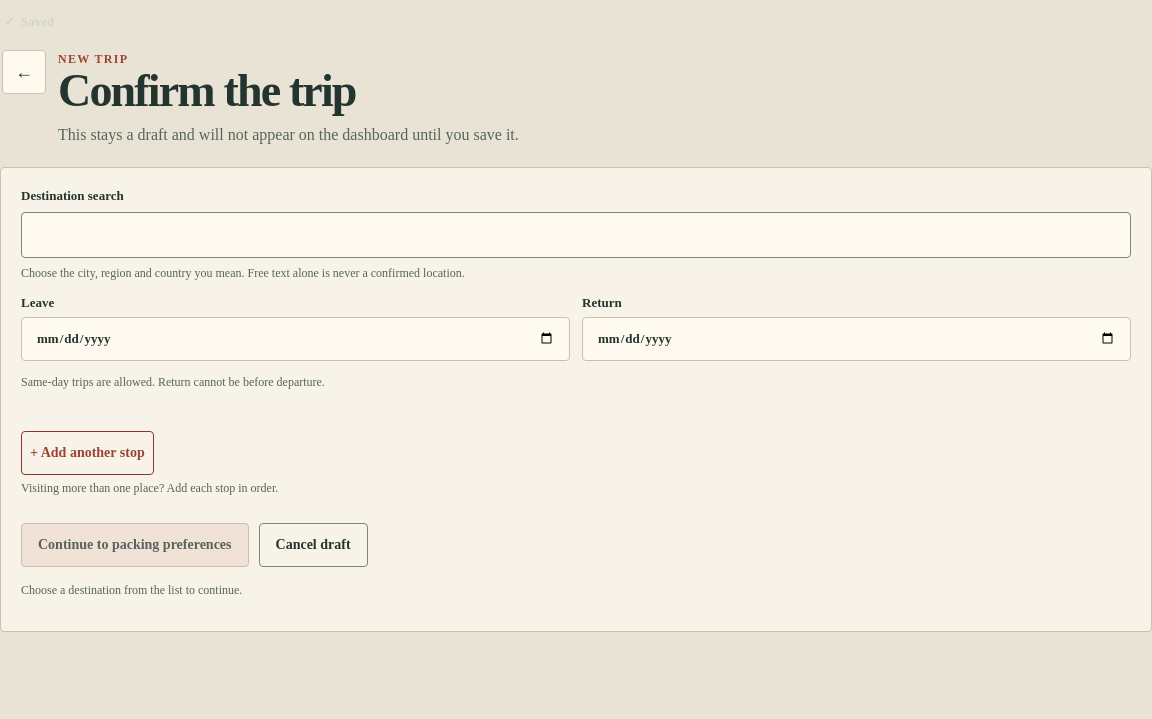
Scenario: a route of several stops › keeps what was typed in the first search box when the route grows
Type "lis" into the dropdown labelled "Destination search" at point(576, 235), box [21,212,1131,258]
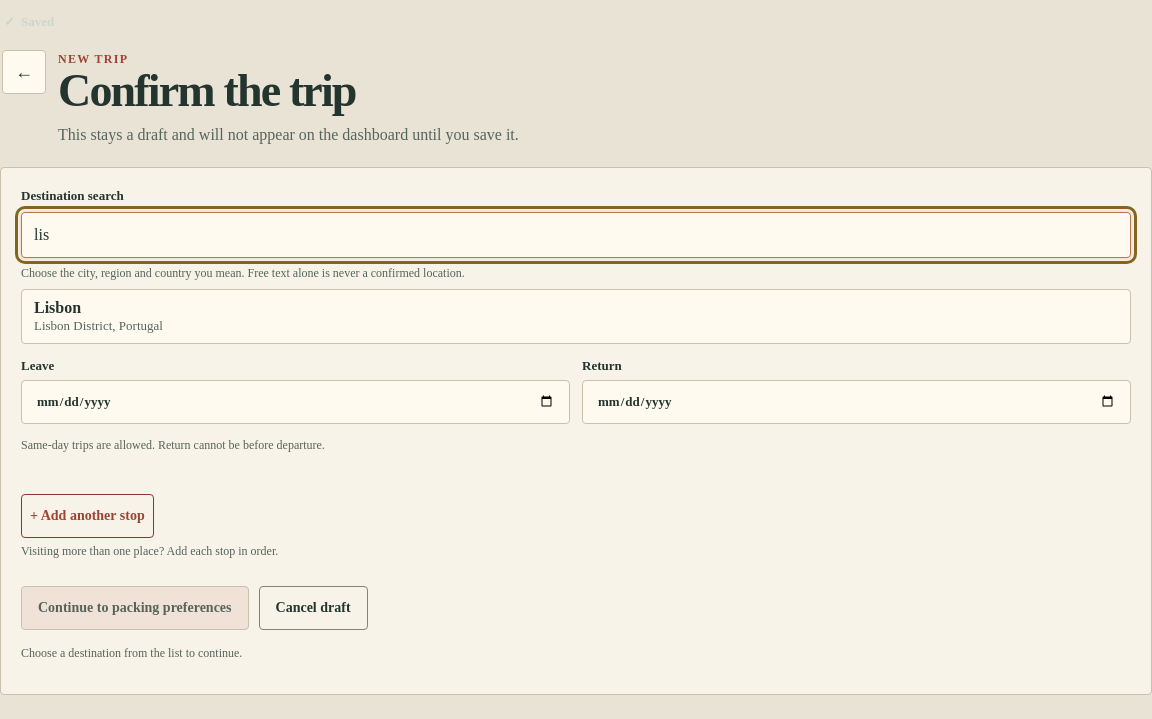
Click the button "+ Add another stop" at point(87, 516), box [21,494,154,538]
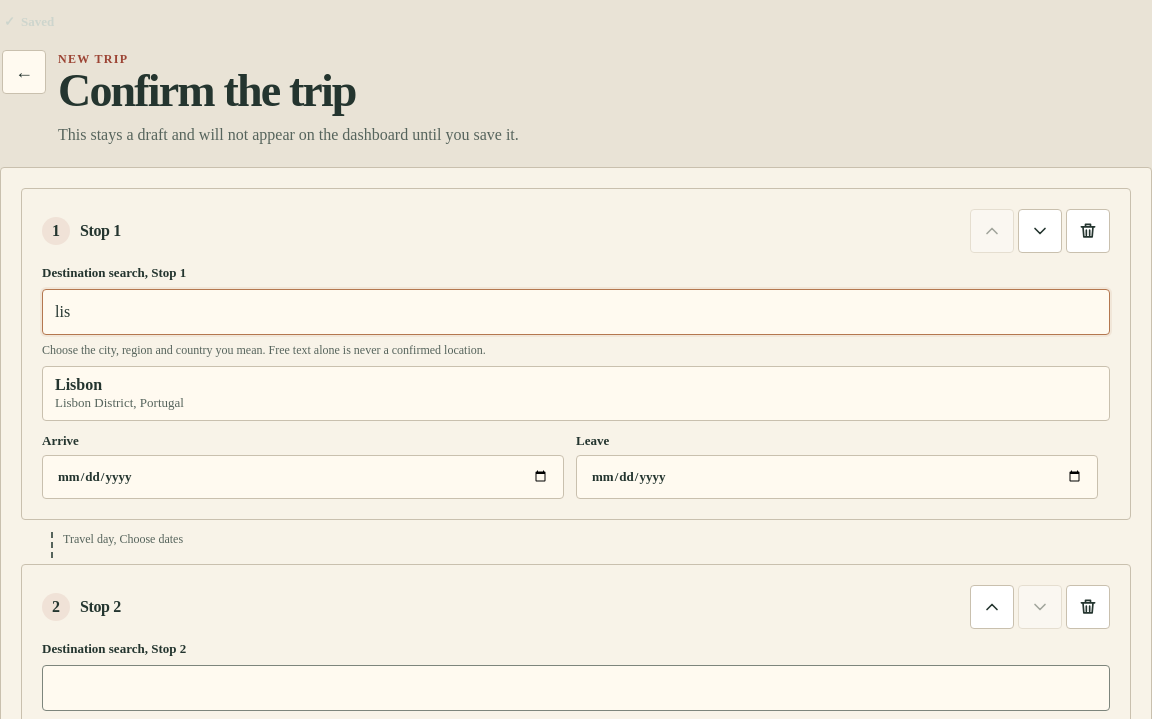
Result: the dropdown labelled "Destination search, Stop 1" holds "lis" at [42,289,1110,335]
